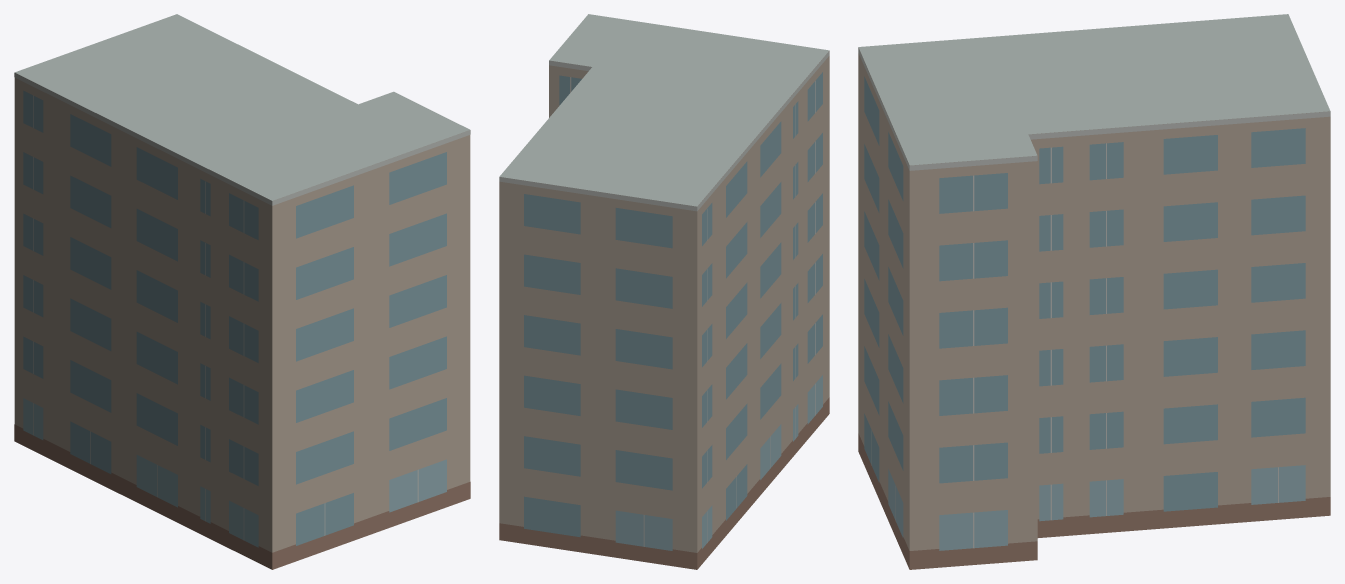
The model's file is survey-upis-32738918.glb.
3 views of the same model, side by side, from view 1: azimuth 30°, elevation 25°; view 2: azimuth 150°, elevation 25°; view 3: azimuth 270°, elevation 25° (orthographic). The views are drawn at different scales.
Parts seen in each view (by area): view 1: survey-upis-32738918.tmp; view 2: survey-upis-32738918.tmp; view 3: survey-upis-32738918.tmp.
Boxes of the visible parts, left/top/right/bottom form: survey-upis-32738918.tmp: left=14, top=14, right=470, bottom=569; survey-upis-32738918.tmp: left=499, top=14, right=829, bottom=569; survey-upis-32738918.tmp: left=858, top=14, right=1330, bottom=569.
Size of the model in its own units: 14.71 by 18.3 by 19.38.
